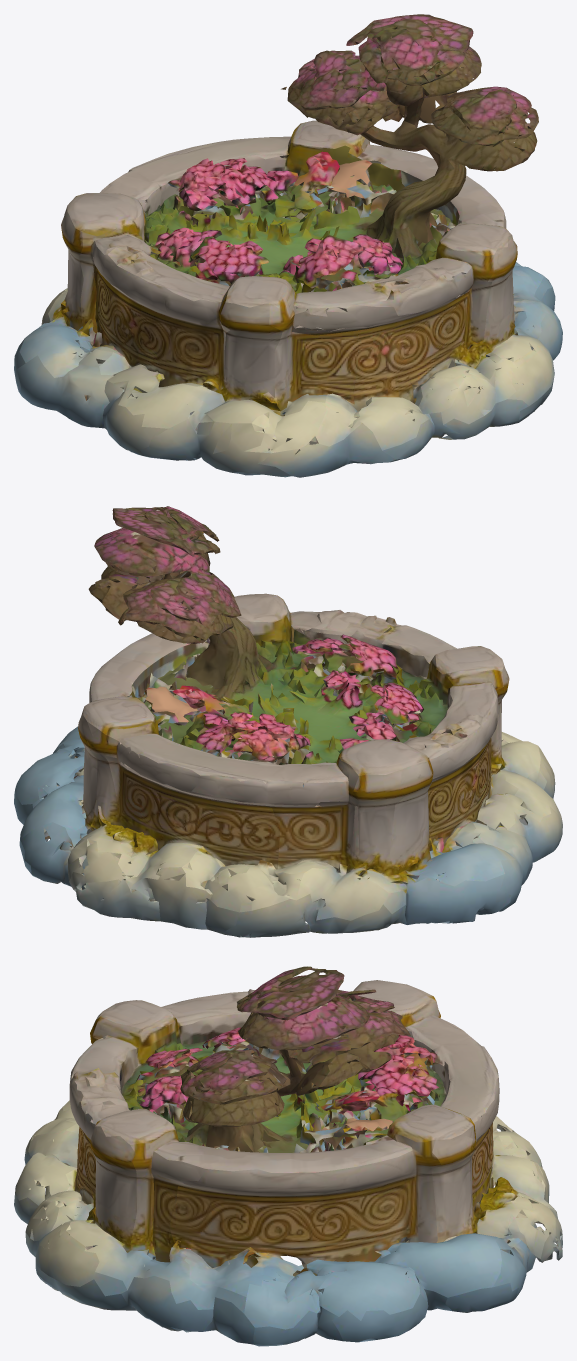
The model's file is sky_cloud_garden.glb.
The picture shows the model from 3 angles, top to bottom: view 1: azimuth 30°, elevation 25°; view 2: azimuth 150°, elevation 25°; view 3: azimuth 270°, elevation 25°; orthographic projection. The views are drawn at different scales.
Parts seen in each view (by area): view 1: textured_mesh.obj; view 2: textured_mesh.obj; view 3: textured_mesh.obj.
Part boxes in pixels (<box>): textured_mesh.obj: <box>14,14,562,477</box>; textured_mesh.obj: <box>14,506,562,937</box>; textured_mesh.obj: <box>14,966,562,1346</box>.
Size of the model in its own units: 1.99 by 1.16 by 1.84.
1 material, 1 textured.
